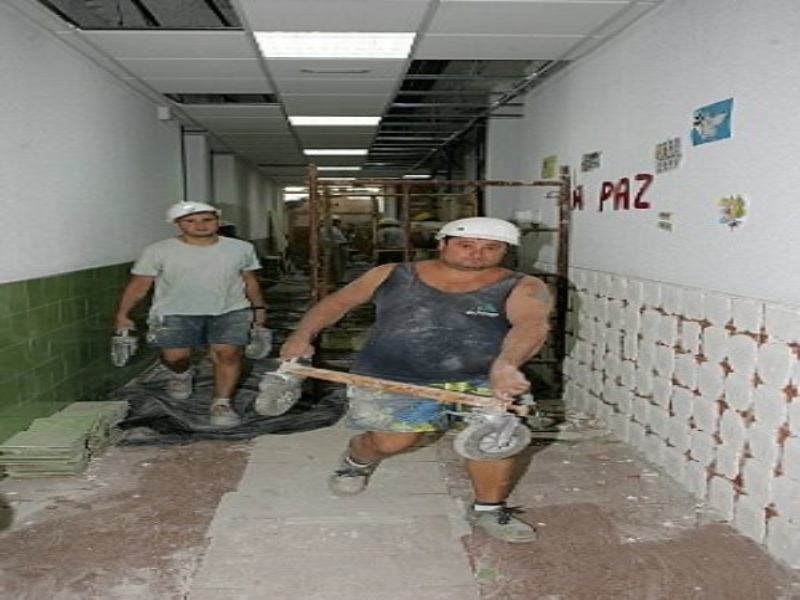casco: (433, 215, 523, 251), (164, 199, 223, 224)
